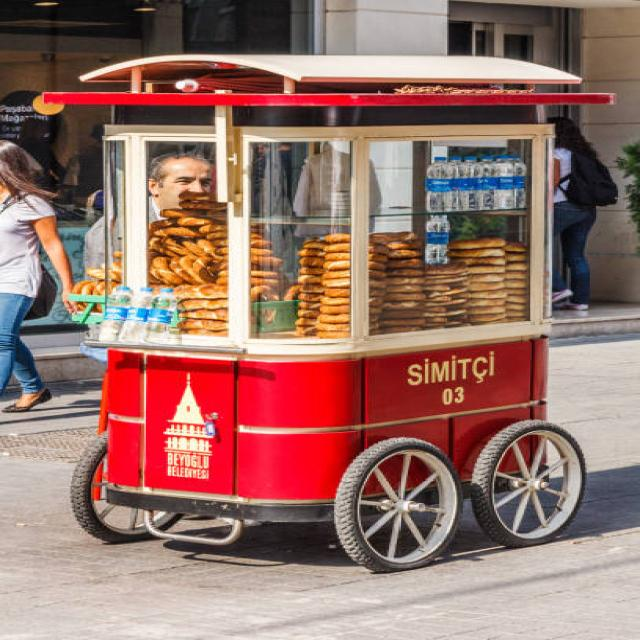Emperan: (33, 47, 630, 580)
